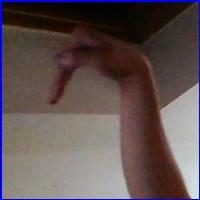A: (43, 21, 150, 111)
